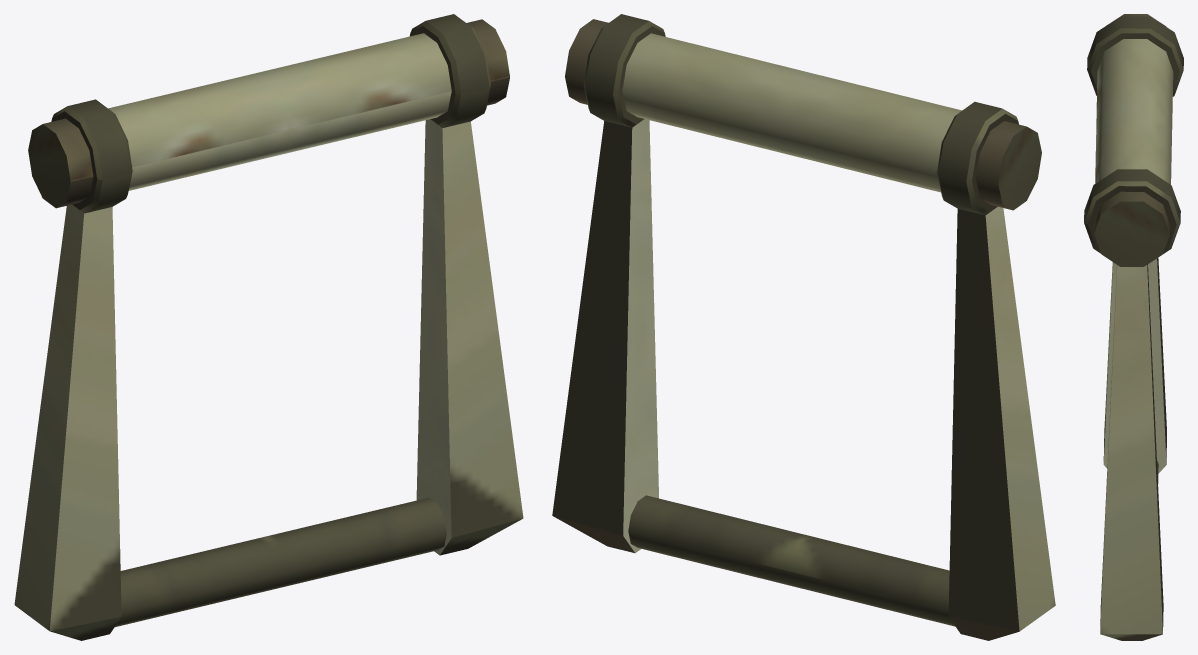
Rendered from Electro_block_handle.fbx.
The picture shows the model from 3 angles, left to right: view 1: azimuth 30°, elevation 25°; view 2: azimuth 150°, elevation 25°; view 3: azimuth 270°, elevation 25°; orthographic projection. The views are drawn at different scales.
Visible parts, largest first — view 1: Cube.004; view 2: Cube.004; view 3: Cube.004.
Part boxes in pixels (x1,y1,x2,y2): Cube.004: (14,14,523,640); Cube.004: (552,14,1055,640); Cube.004: (1084,14,1183,640).
Bounding box in the file's own units: 42.05 × 8.79 × 44.63.
